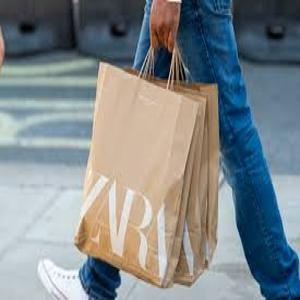zara: (137, 84, 205, 251)
